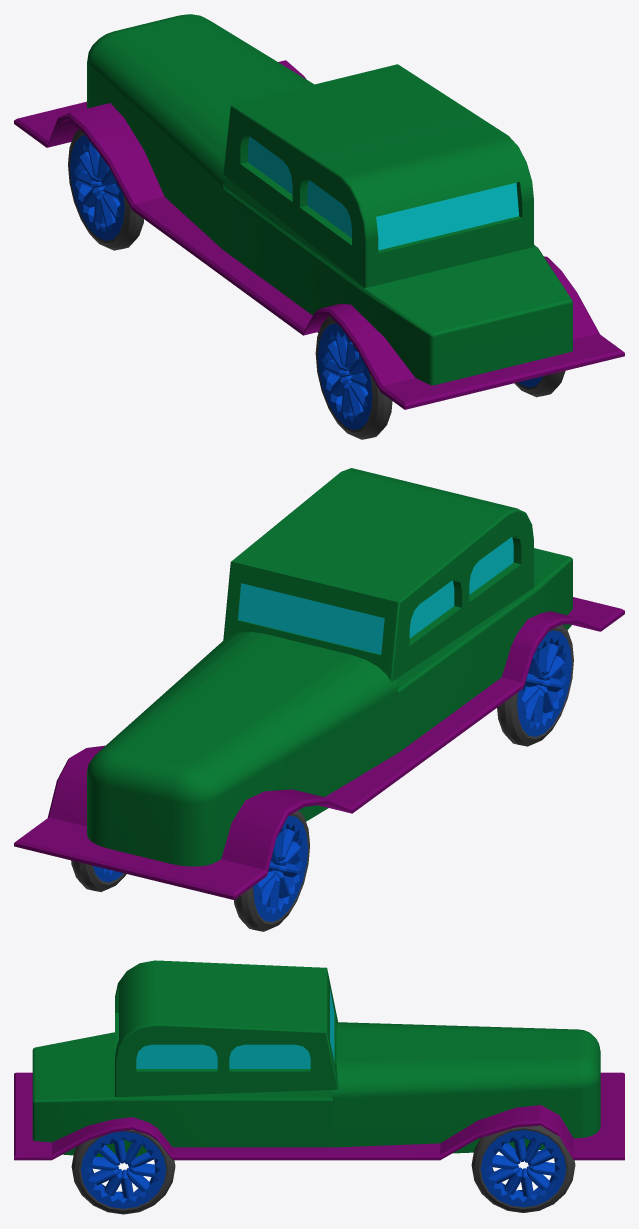
The model's file is FixerCar.fbx.
The picture shows the model from 3 angles, top to bottom: view 1: azimuth 30°, elevation 25°; view 2: azimuth 150°, elevation 25°; view 3: azimuth 270°, elevation 25°; orthographic projection. The views are drawn at different scales.
Parts seen in each view (by area): view 1: pasted__group9; view 2: pasted__group9; view 3: pasted__group9.
Part boxes in pixels (box(x1,y1,x2,y2)): pasted__group9: box(14, 14, 624, 439); pasted__group9: box(14, 468, 624, 931); pasted__group9: box(14, 960, 624, 1214).
Size of the model in its own units: 2.27 by 2.39 by 6.98.
